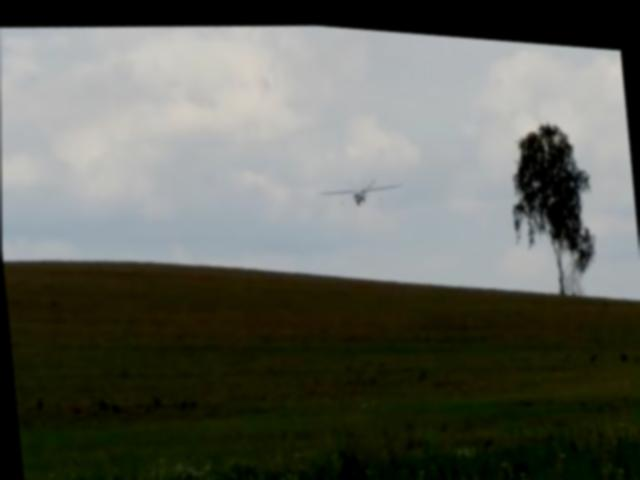uav: (314, 165, 404, 203)
